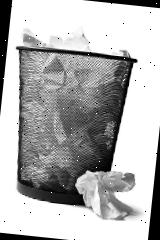paper: (72, 166, 137, 222), (20, 19, 94, 52)
